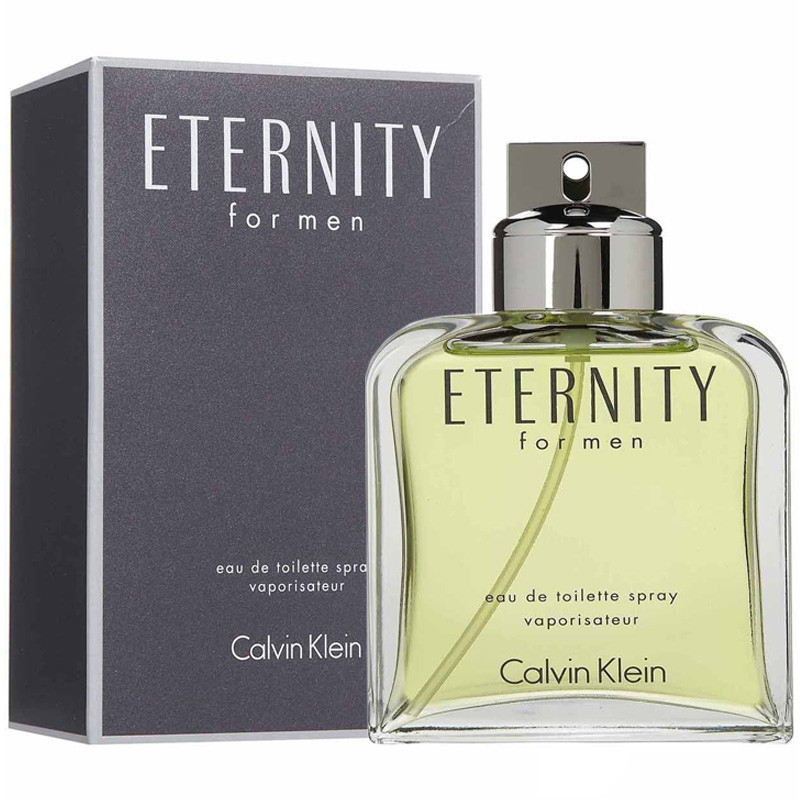Calvin Klein: (495, 639, 676, 701), (214, 619, 369, 667)
